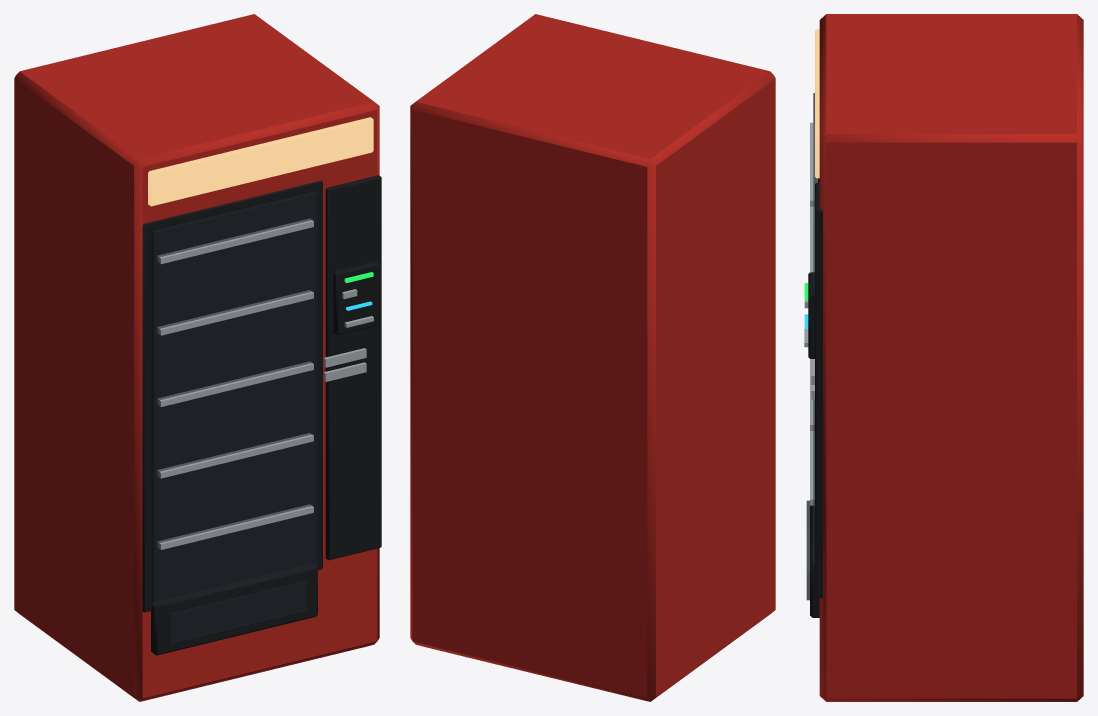
The model's file is vending_snack_machine.glb.
3 views of the same model, side by side, from view 1: azimuth 30°, elevation 25°; view 2: azimuth 150°, elevation 25°; view 3: azimuth 270°, elevation 25° (orthographic). The views are drawn at different scales.
Visible parts, largest first — view 1: vending_snack_machine; view 2: vending_snack_machine; view 3: vending_snack_machine.
Boxes of the visible parts, x1,y1,x2,y2 form: vending_snack_machine: (14, 14, 381, 701); vending_snack_machine: (410, 14, 775, 701); vending_snack_machine: (804, 14, 1083, 701).
Bounding box in the file's own units: 0.9 × 1.9 × 0.847.
